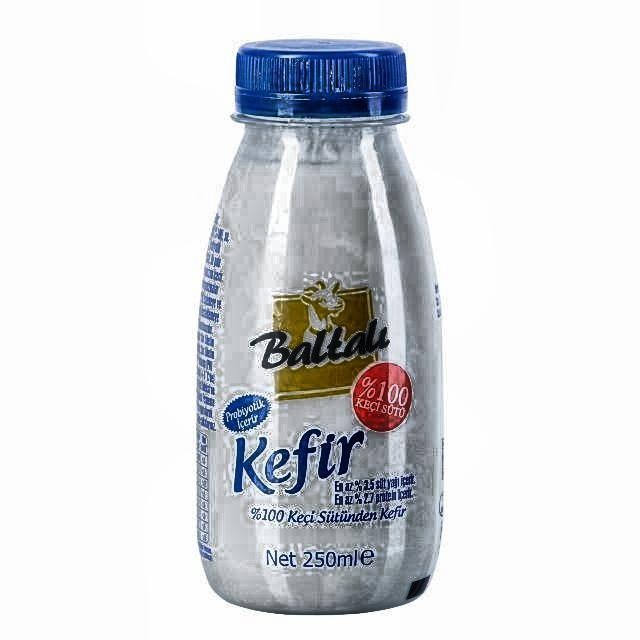plastic: (191, 37, 449, 619)
